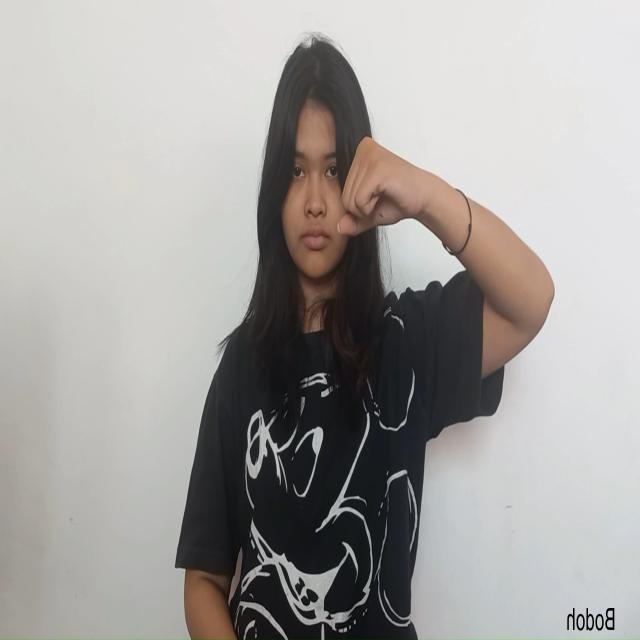Bodoh -BISINDO-: (336, 135, 425, 238)
